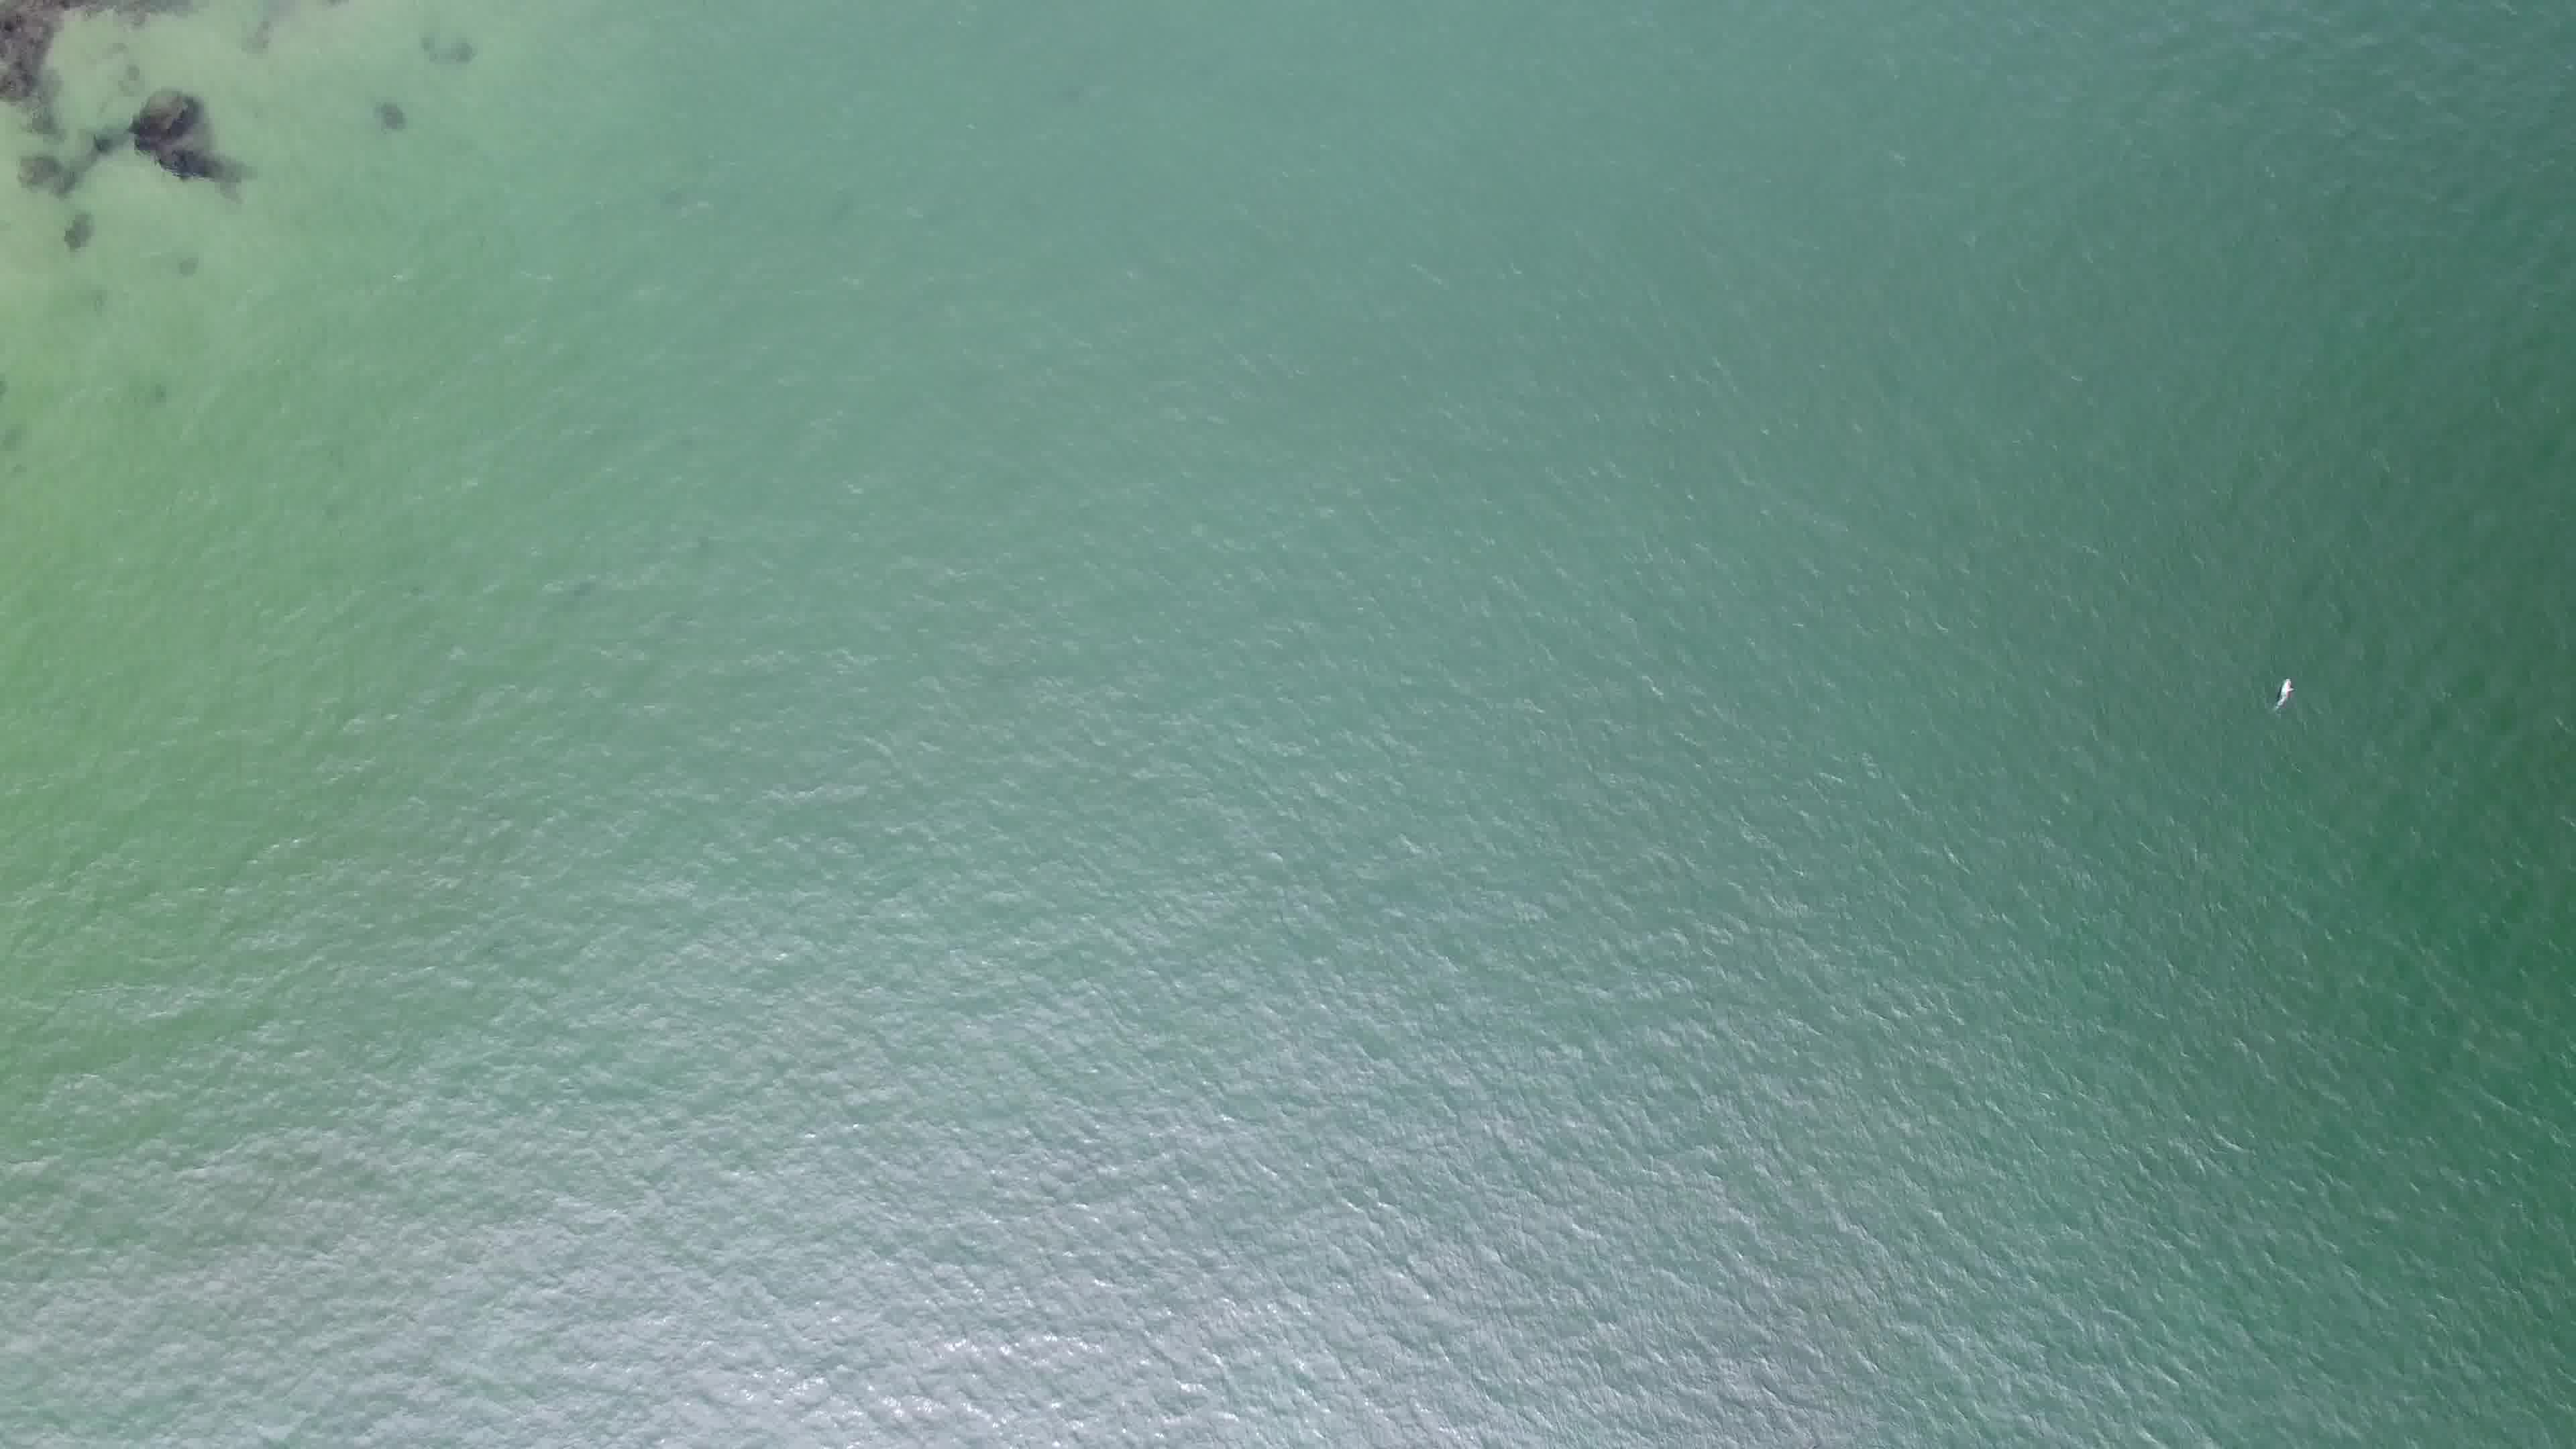dolphin: (2259, 663, 2312, 720)
